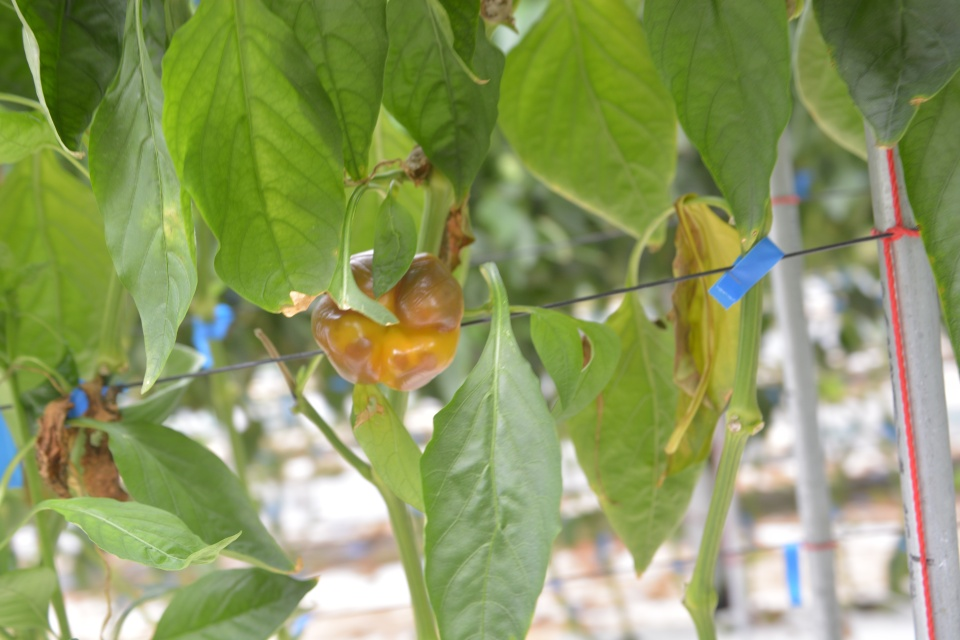fruit: (308, 246, 467, 395)
